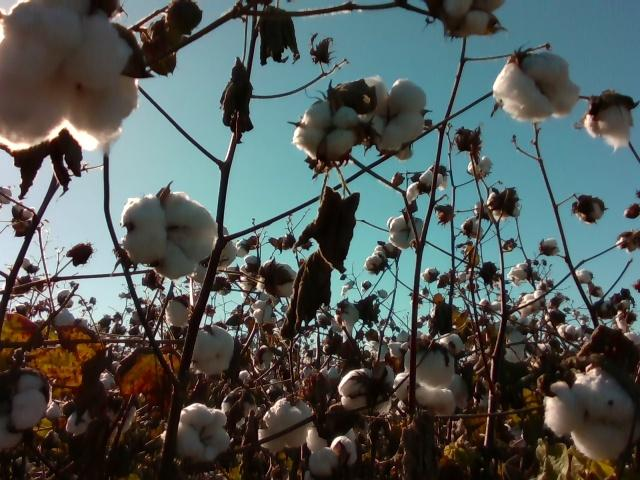cotton_ready: (0, 0, 141, 149), (541, 360, 640, 464), (120, 194, 220, 278), (492, 51, 585, 123), (349, 76, 428, 155), (49, 368, 132, 438), (293, 101, 360, 162), (0, 372, 49, 453), (173, 405, 234, 466), (258, 397, 316, 453), (390, 373, 460, 419), (336, 367, 396, 418), (586, 94, 635, 154), (299, 434, 359, 480), (187, 327, 236, 378), (404, 343, 458, 389), (442, 0, 506, 37)
